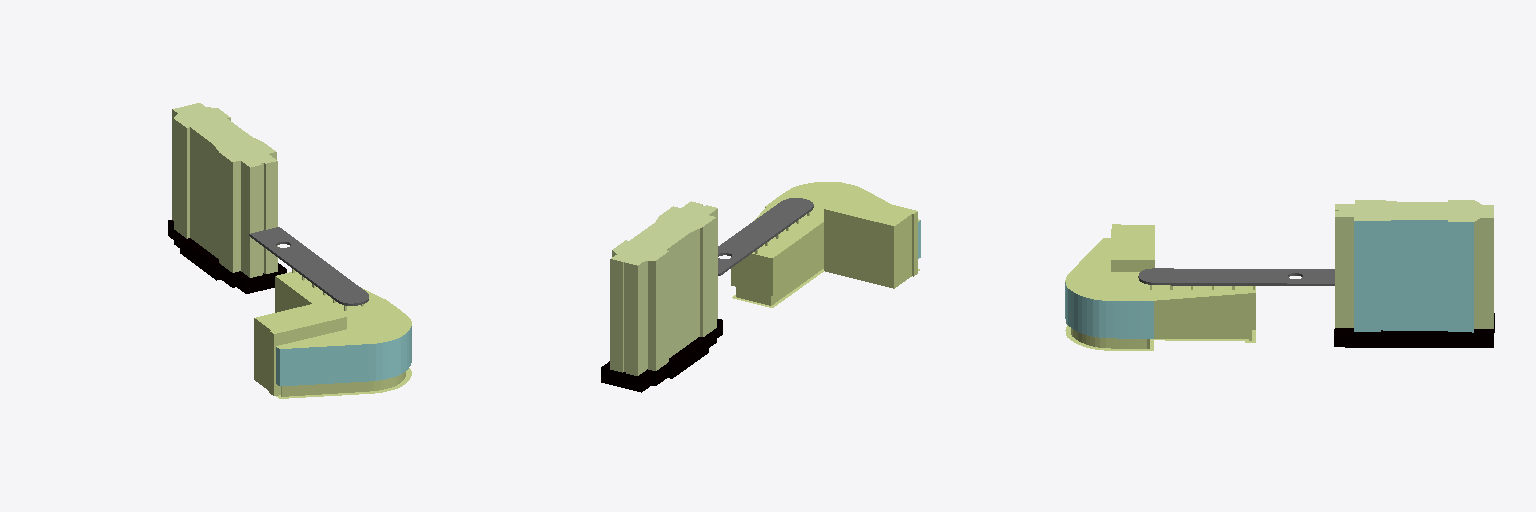
File: house05.obj
The picture shows the model from 3 angles: view 1: azimuth 30°, elevation 25°; view 2: azimuth 150°, elevation 25°; view 3: azimuth 270°, elevation 25°; orthographic projection.
Visible parts, largest first — view 1: Line1712, Line1709, ??007, Line1710, Line1711, Line3403; view 2: Line1712, Line1710, Line1709, Line1711, Line3403; view 3: ??005, Line1709, Line1712, ??007, Line1711, Line3403, Line1710.
Part boxes in pixels (x1,y1,x2,y2): Line1712: (172, 103, 277, 277); Line1709: (275, 271, 411, 398); ??007: (276, 326, 411, 386); Line1710: (254, 301, 346, 395); Line1711: (249, 227, 368, 305); Line3403: (168, 220, 286, 293); Line1712: (610, 201, 717, 375); Line1710: (824, 193, 917, 288); Line1709: (731, 182, 919, 307); Line1711: (718, 198, 813, 275); Line3403: (601, 319, 722, 392); ??005: (1354, 220, 1473, 332); Line1709: (1065, 238, 1255, 350); Line1712: (1335, 200, 1493, 328); ??007: (1065, 282, 1153, 338); Line1711: (1138, 268, 1334, 285); Line3403: (1334, 313, 1494, 347); Line1710: (1111, 224, 1154, 271).
Size of the model in its own units: 2190 by 1985 by 6146.